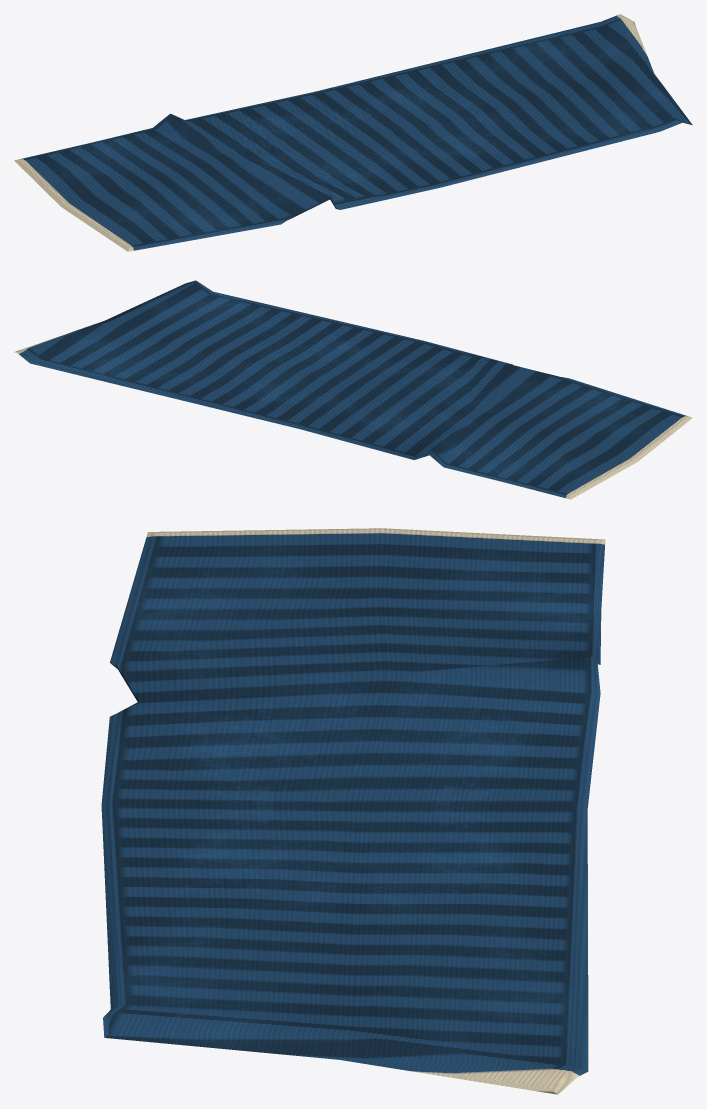
Rendered from AIR0110008.fbx.
3 views of the same model, one above another, from view 1: azimuth 30°, elevation 25°; view 2: azimuth 150°, elevation 25°; view 3: azimuth 270°, elevation 25° (orthographic). The views are drawn at different scales.
Visible parts, largest first — view 1: smAIR0110008; view 2: smAIR0110008; view 3: smAIR0110008.
Part boxes in pixels (bbox=[...]): smAIR0110008: bbox=[14, 14, 692, 251]; smAIR0110008: bbox=[14, 280, 692, 499]; smAIR0110008: bbox=[101, 528, 605, 1094].
Size of the model in its own units: 376 by 7.06 by 141.
Materials: 1 (1 with a texture image).
